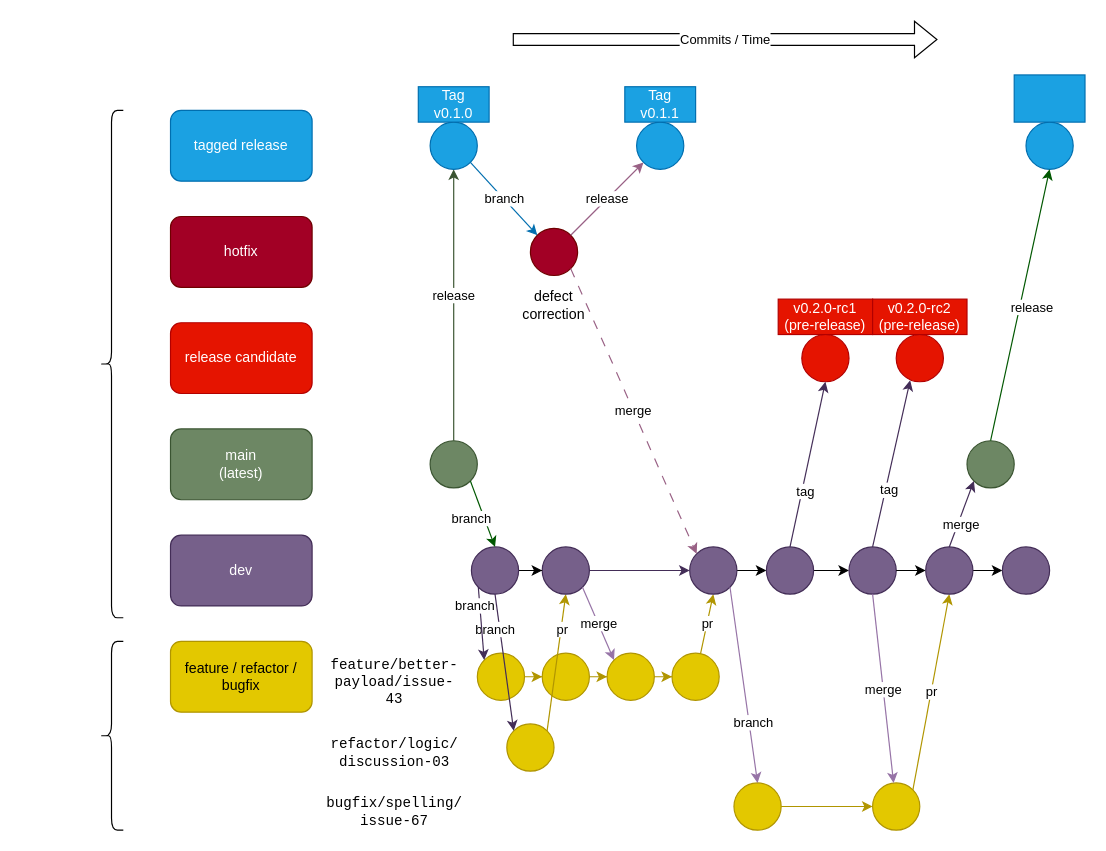
Some shapes in this 1106 by 851 pixel diagram are drawn without their labels. The shapes that lost their labels are listed below. From the top down, each one's box as (x1, y1, x2, y2) in pixels, then its label:
(1013, 74, 1085, 122): Tag v0.2.0
(99, 109, 123, 618): Maintainers
(99, 640, 123, 830): Contributors
